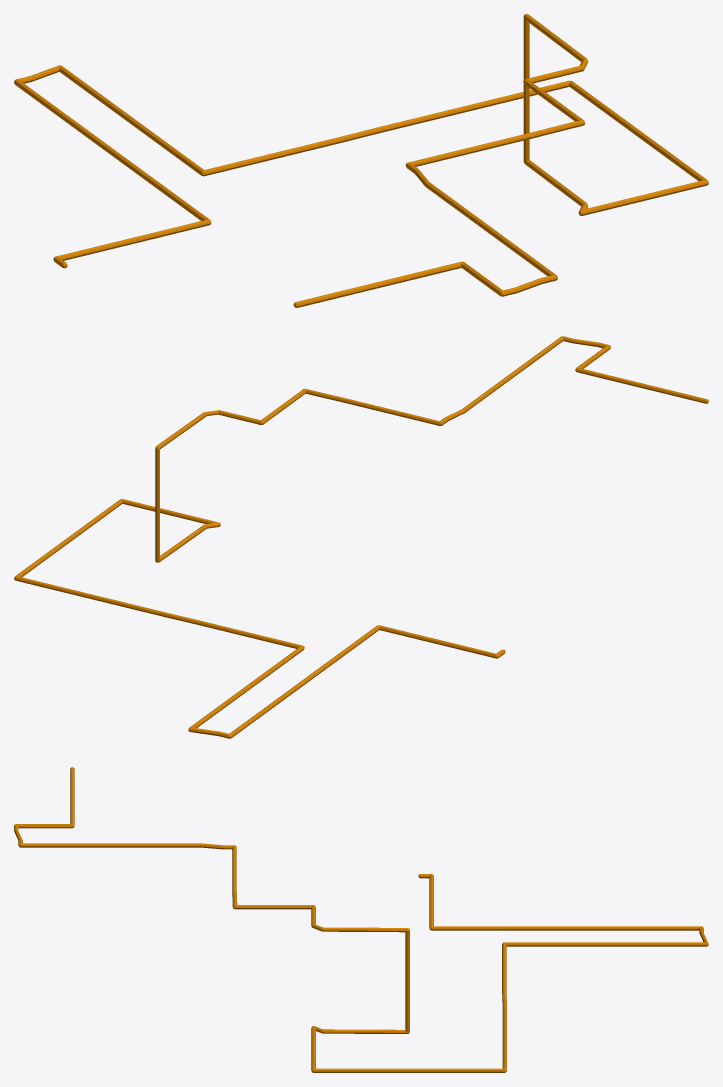
3 views of the same model, one above another, from view 1: azimuth 30°, elevation 25°; view 2: azimuth 150°, elevation 25°; view 3: azimuth 270°, elevation 25° (orthographic). The views are drawn at different scales.
Bounding box in the file's own units: 2121 × 520 × 3090.
